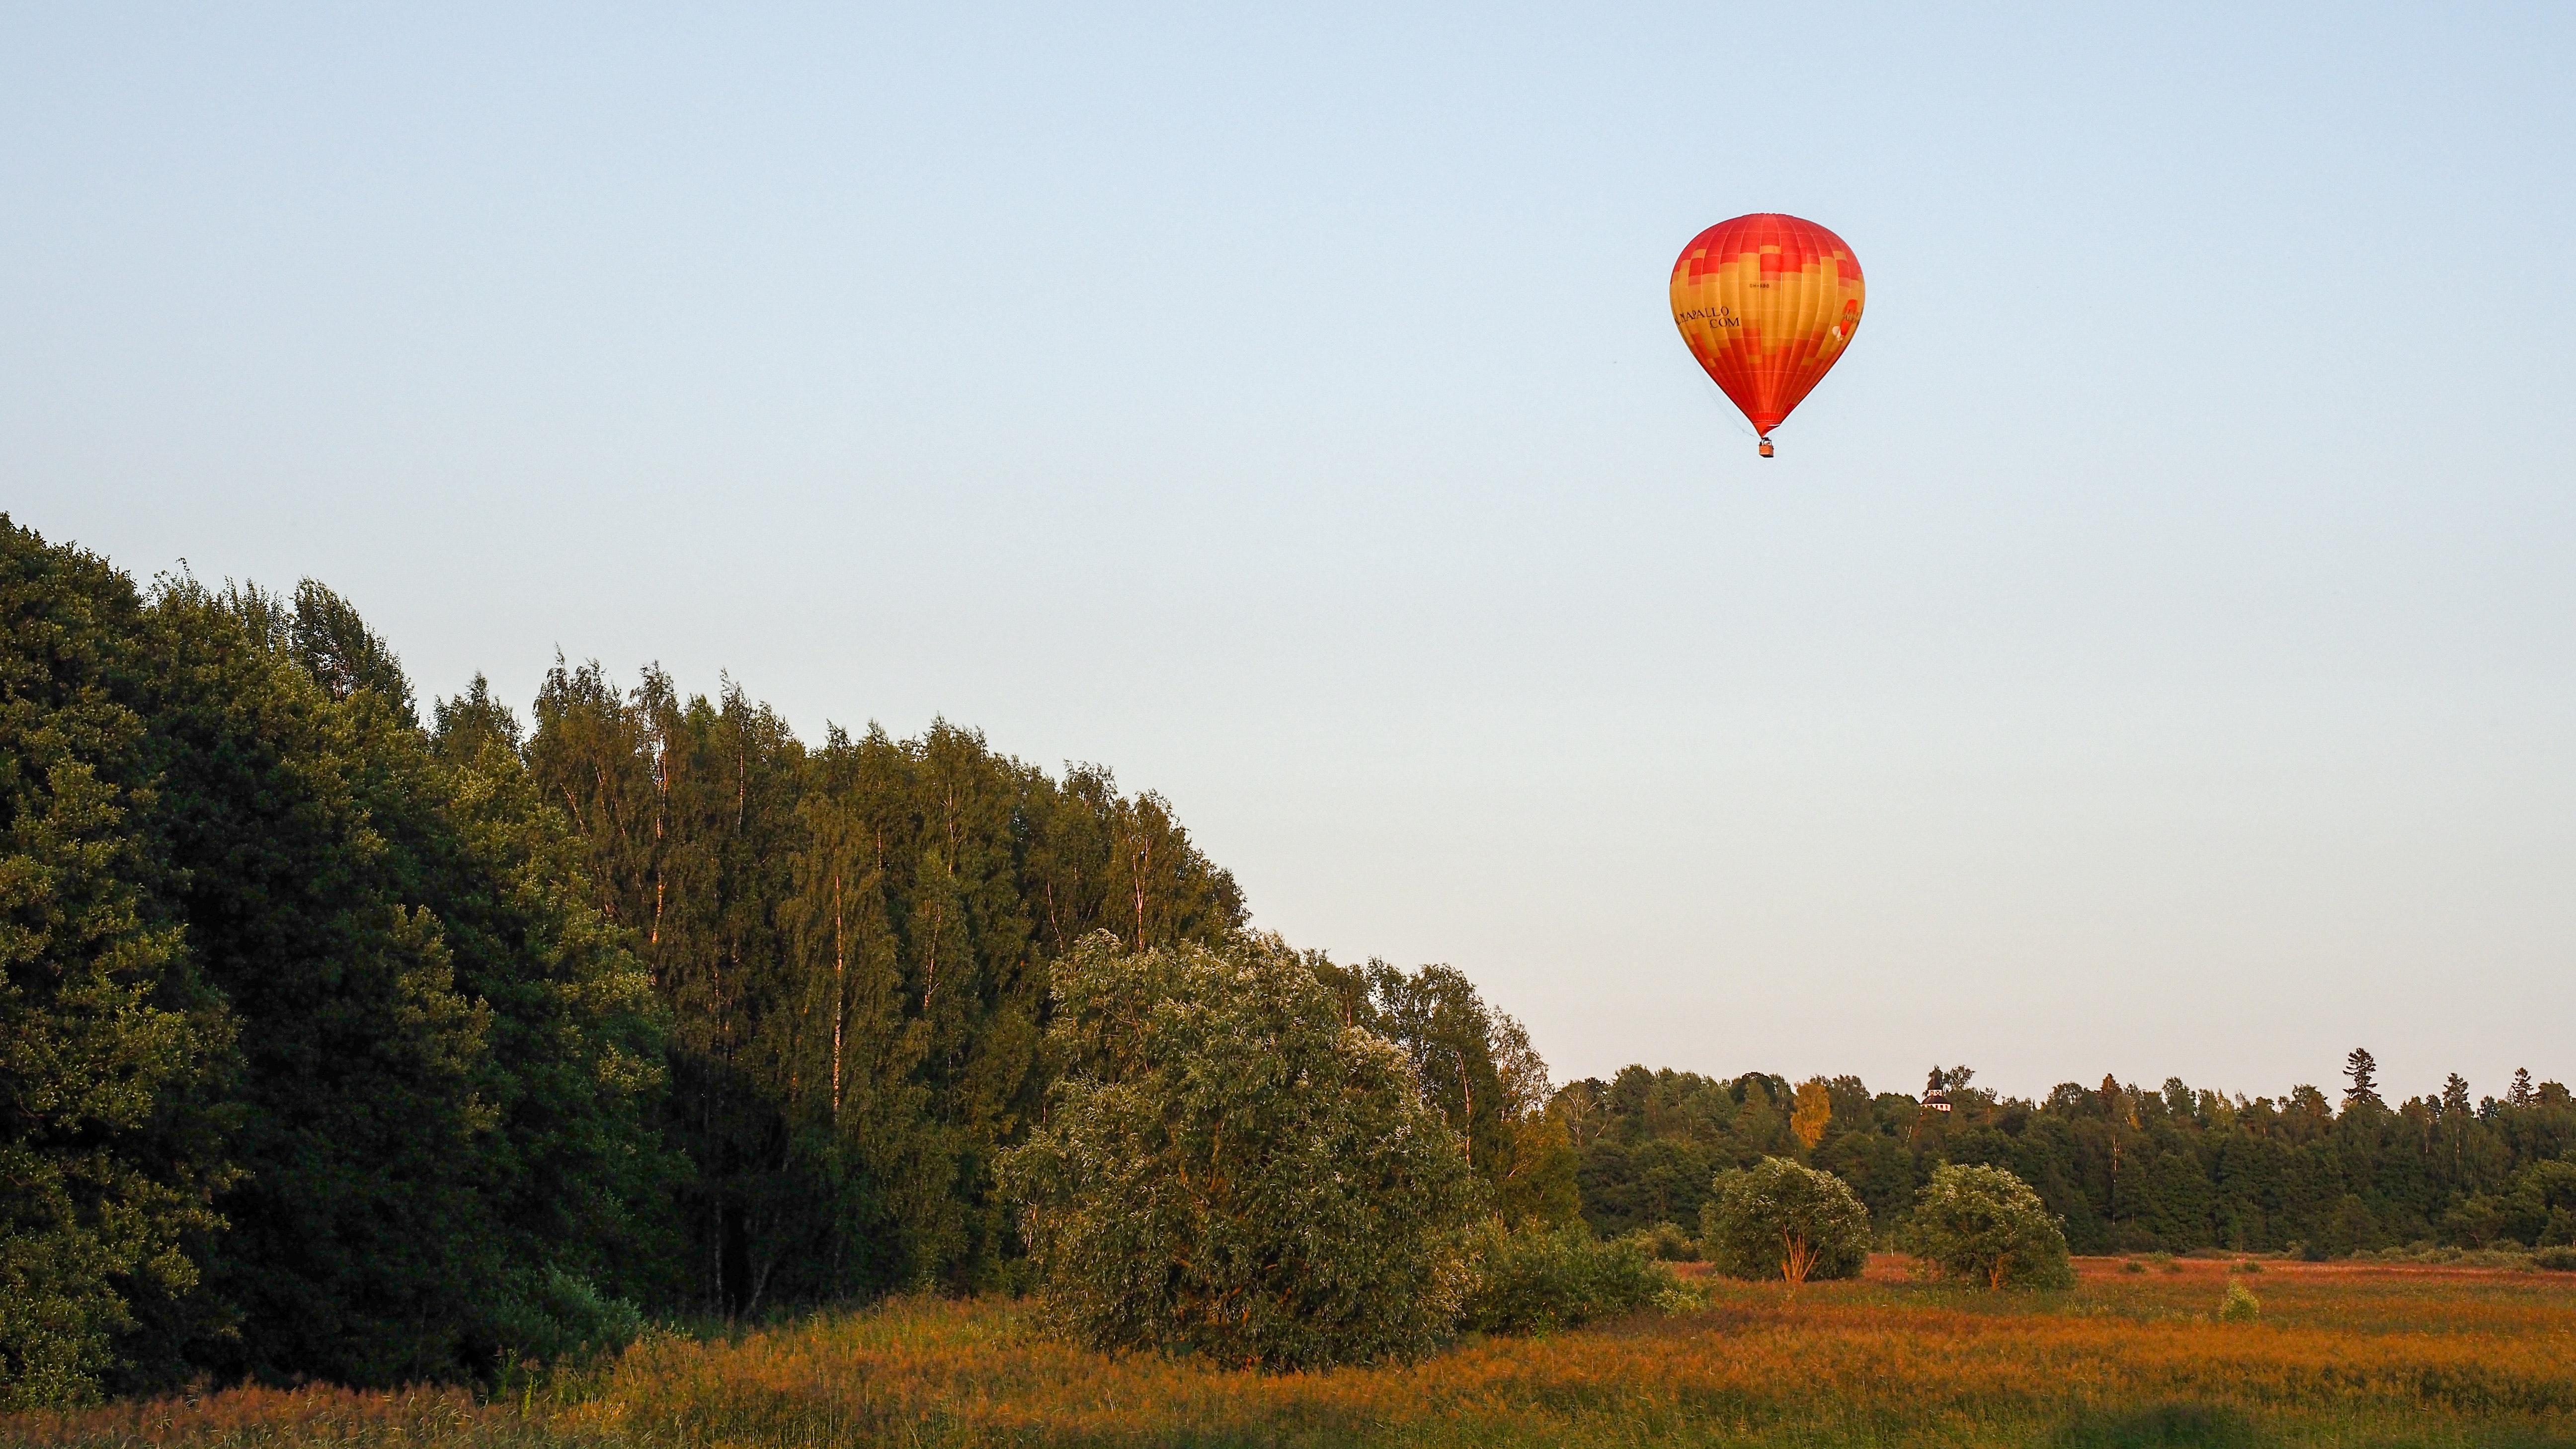hot air ballon: (1670, 214, 1868, 460)
